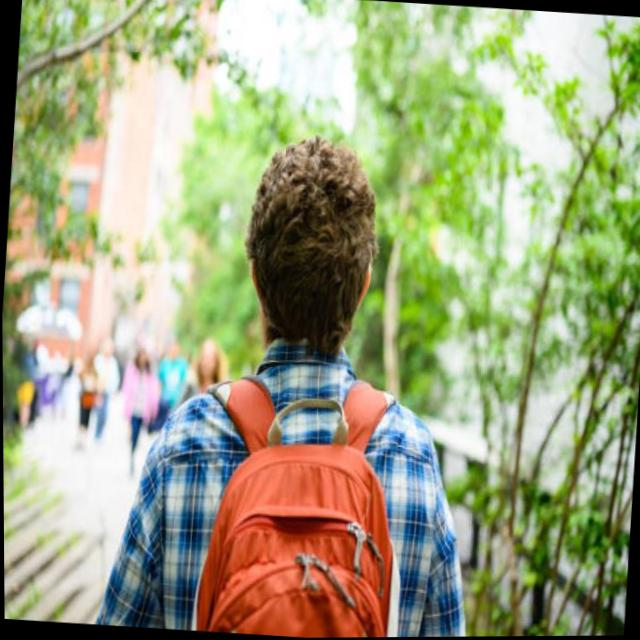no helmet: (217, 114, 412, 387)
